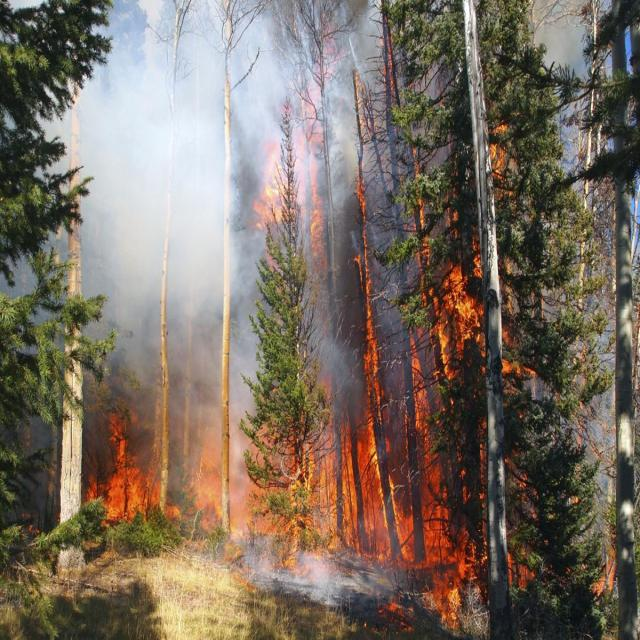Fire: (393, 110, 537, 595), (208, 353, 431, 570), (68, 414, 188, 542), (296, 72, 340, 290), (248, 112, 301, 237)
Smoke: (20, 0, 379, 381)
